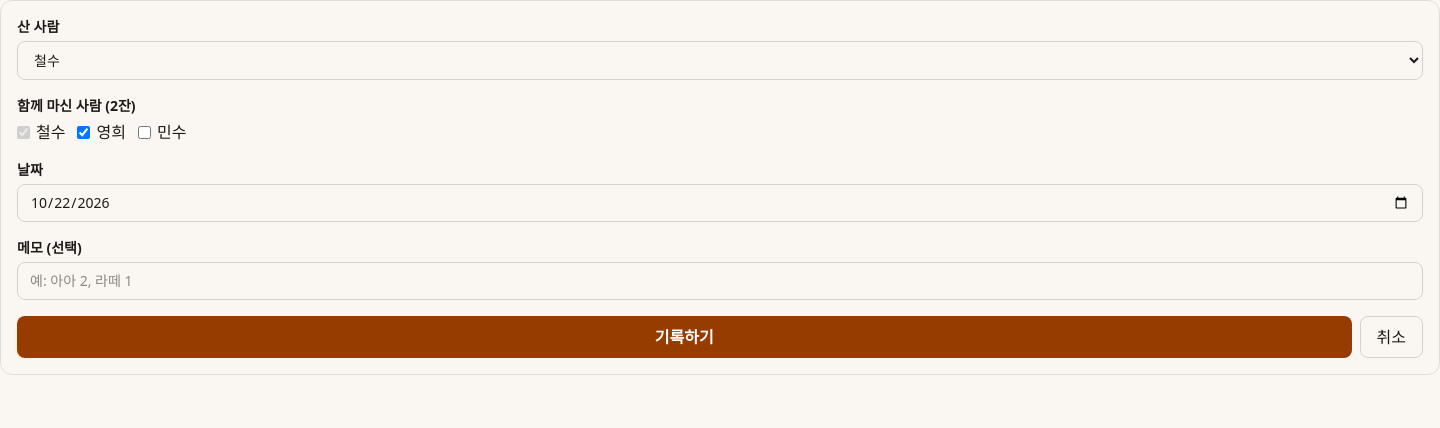
Test: PurchaseForm › blocks a purchase with only the buyer
Click the checkbox labelled "영희": (84, 132) [78, 126, 90, 138]
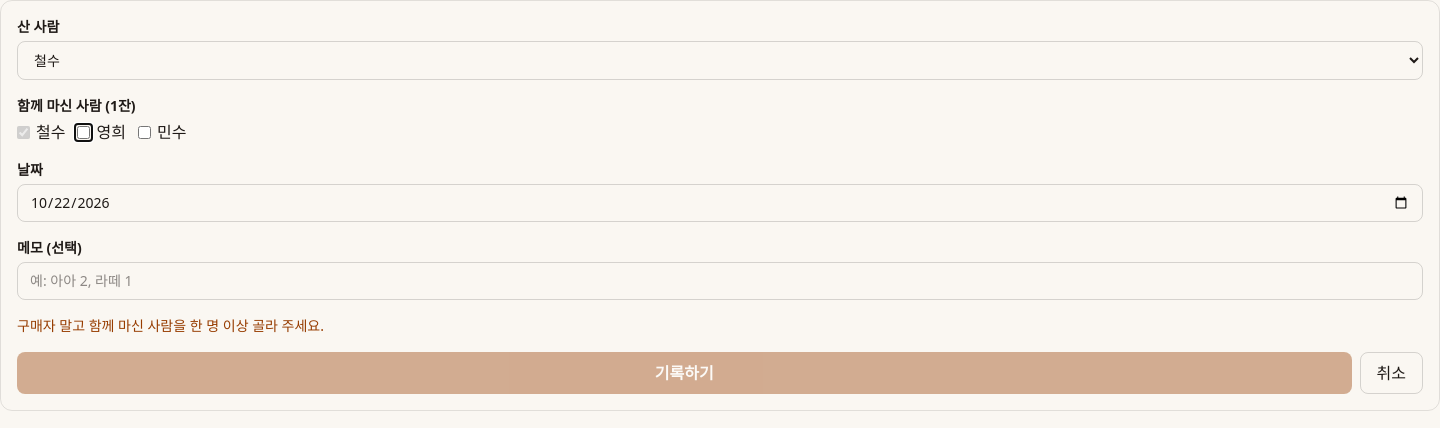
expect the text "구매자 말고 함께 마신 사람을 한 명 이상 골라 주세요." is shown: met, box [17, 316, 324, 335]
expect the button "기록하기" is disabled: met, box [17, 352, 1352, 394]
